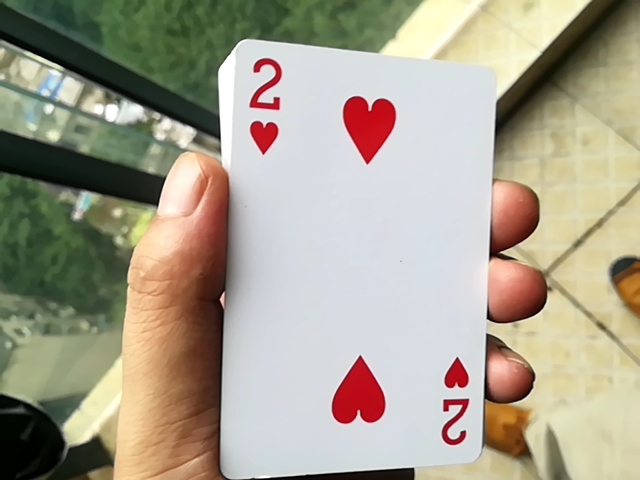hx 2: (221, 13, 485, 480)
